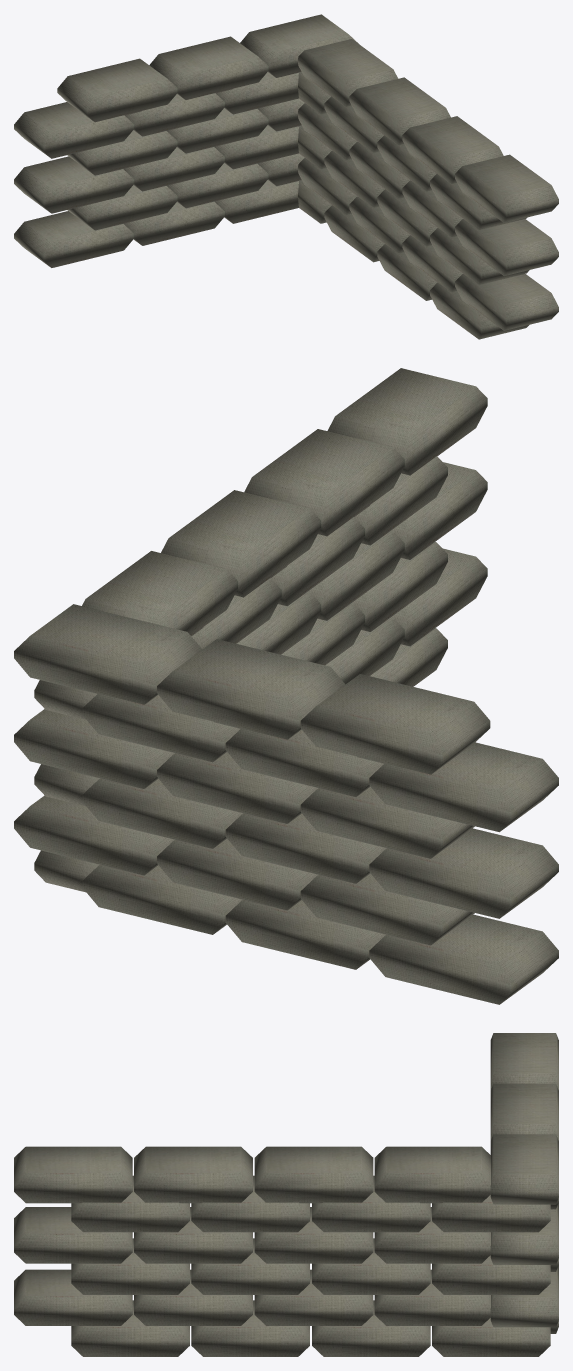
The model's file is mb-sandbag-corner.lod0.glb.
3 views of the same model, one above another, from view 1: azimuth 30°, elevation 25°; view 2: azimuth 150°, elevation 25°; view 3: azimuth 270°, elevation 25° (orthographic). The views are drawn at different scales.
Parts seen in each view (by area): view 1: Box003_Fabric_0; view 2: Box003_Fabric_0; view 3: Box003_Fabric_0.
Part boxes in pixels (bbox=[...]): Box003_Fabric_0: bbox=[14, 14, 558, 339]; Box003_Fabric_0: bbox=[14, 368, 558, 1004]; Box003_Fabric_0: bbox=[14, 1033, 558, 1356].
Size of the model in its own units: 2.04 by 1 by 2.68.
Materials: 1 (1 with a texture image).
